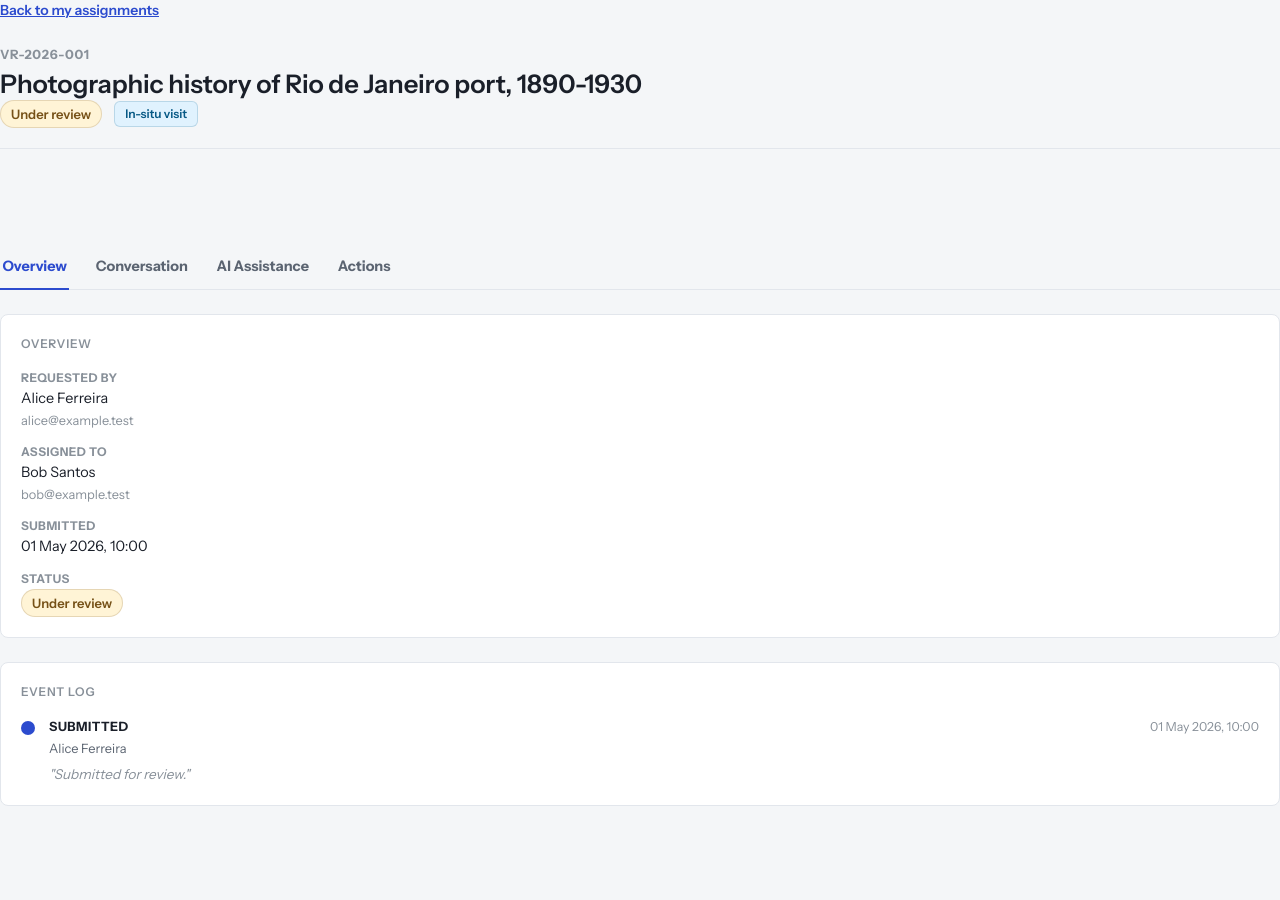
Test case: ProposalMyDetailPageComponent › requires a reason before rejecting the assignment
The width and height of the screenshot is (1280, 900).
Click the tab "Actions". click: (364, 267)
box: [335,245,393,290]
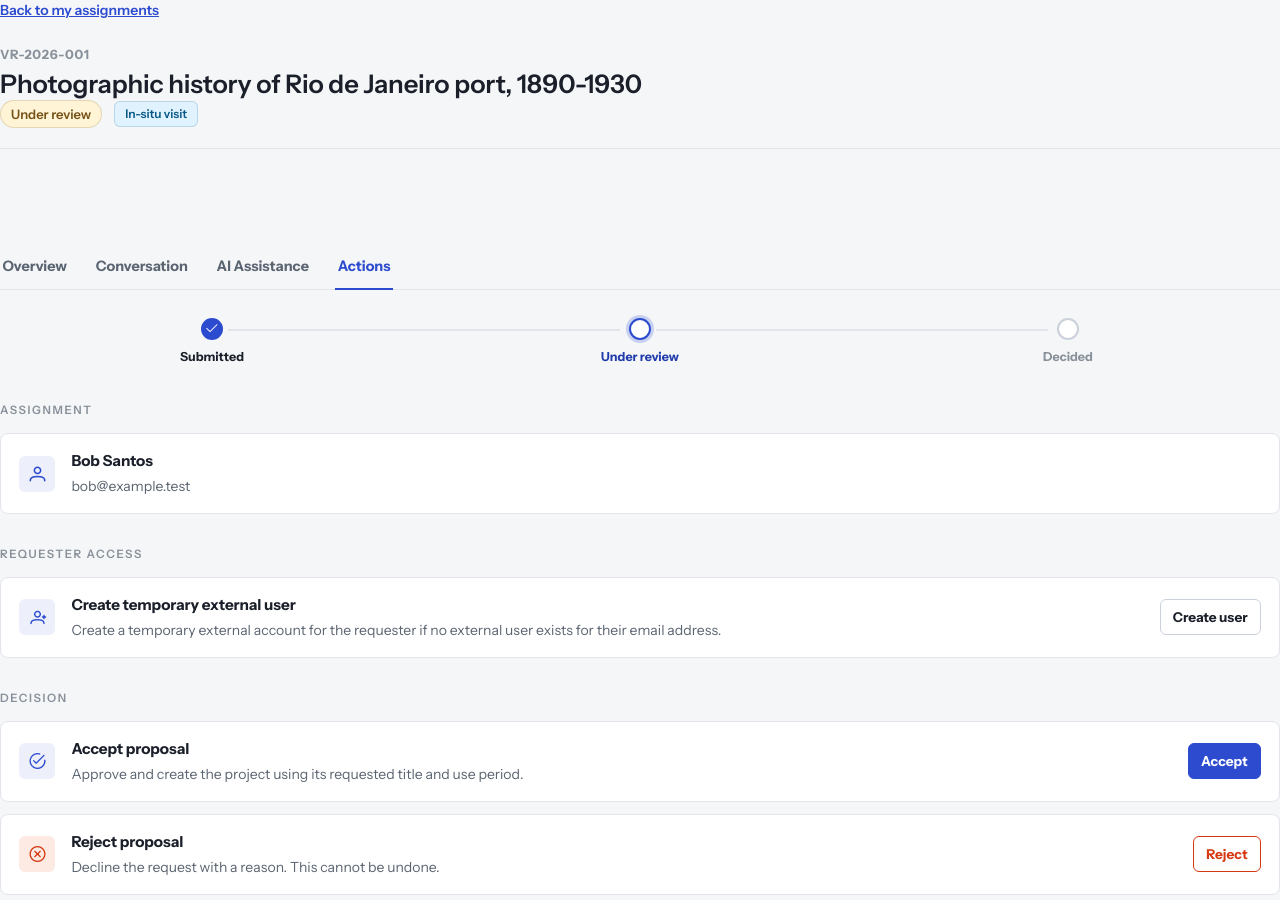
Check: the button "Reject" is shown
Click the button "Reject". click: (1227, 854)
box: [1193,836,1261,872]
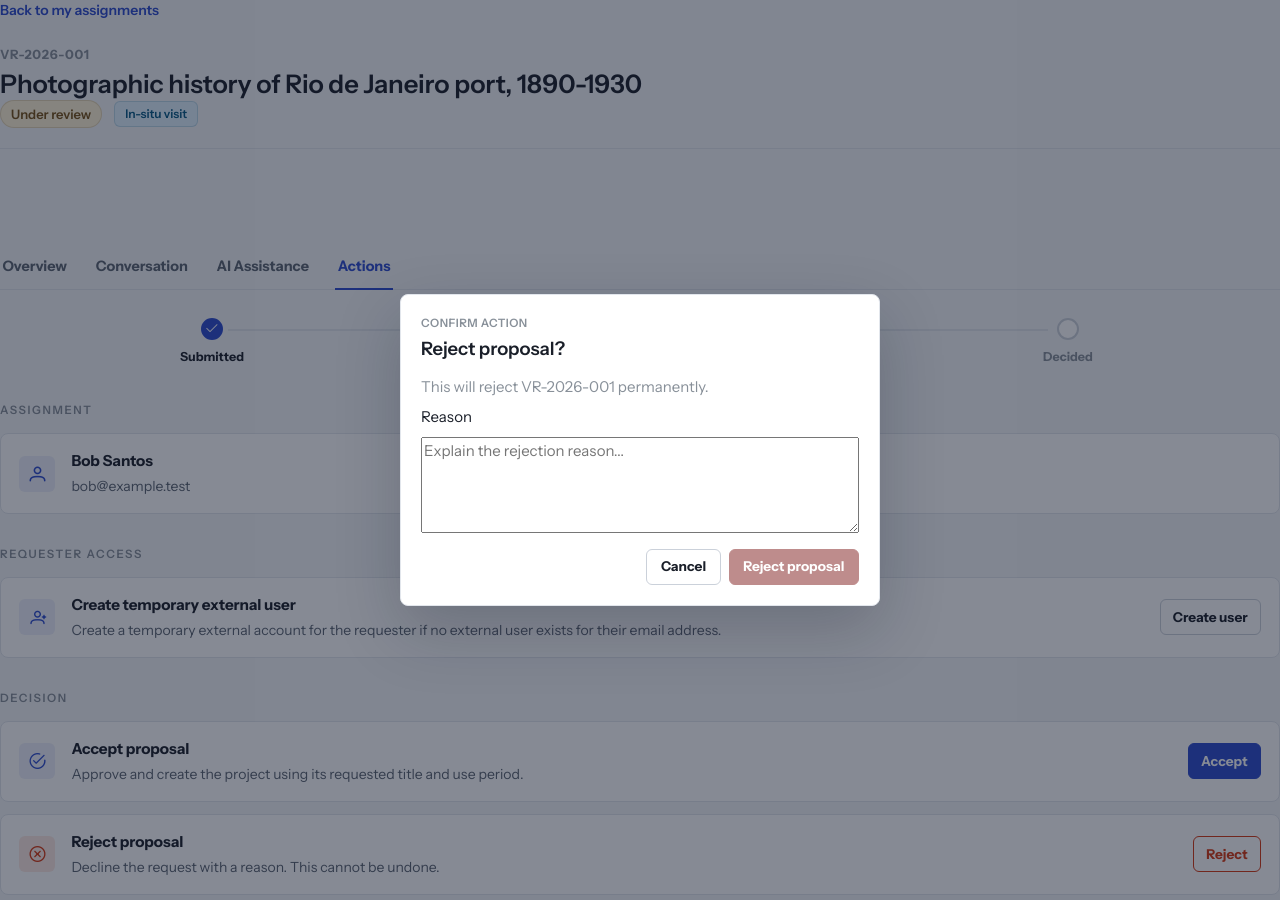
Check: the dialog is shown, box [400,294,880,606]
Check: the dialog shows "Reject proposal?", box [421,337,565,360]
Check: the text box with id "rejection-reason" is shown, box [421,437,859,533]
